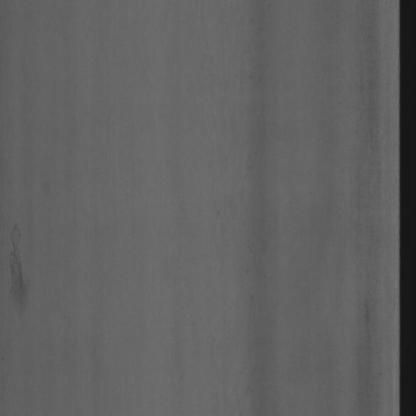water_spot: (7, 219, 40, 333)
